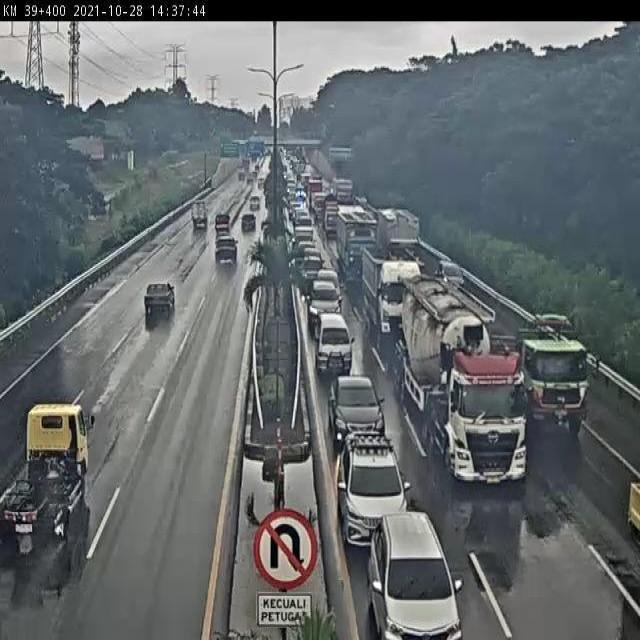car: (362, 516, 466, 637), (333, 428, 410, 537), (323, 371, 391, 445), (311, 312, 358, 371), (139, 276, 179, 320), (308, 276, 348, 317), (296, 243, 330, 275), (213, 229, 242, 264), (293, 219, 320, 247), (239, 209, 258, 239), (212, 205, 230, 231)
truck: (406, 277, 528, 475), (0, 399, 97, 560), (485, 293, 587, 427), (359, 238, 411, 342), (337, 207, 378, 279), (188, 193, 210, 231)
